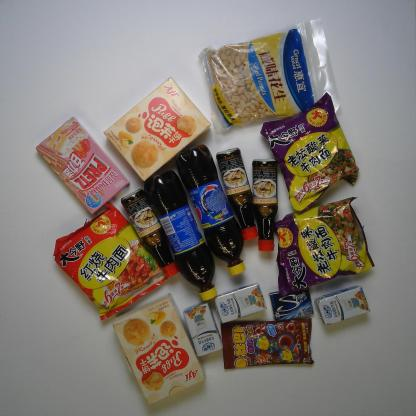Candy: (219, 317, 315, 370)
Dessert: (102, 76, 212, 182), (110, 292, 206, 410), (34, 115, 130, 215)
Dried Fruit: (194, 17, 343, 135)
Drink: (172, 143, 251, 277), (142, 170, 220, 302)
Gum: (268, 286, 315, 323)
Instant Noodles: (51, 202, 167, 323), (260, 92, 364, 215), (272, 195, 376, 296)
Milk: (313, 284, 372, 327), (211, 282, 269, 324), (182, 302, 224, 358)
Seasoner: (119, 188, 179, 280), (214, 146, 262, 241), (251, 158, 282, 252)
